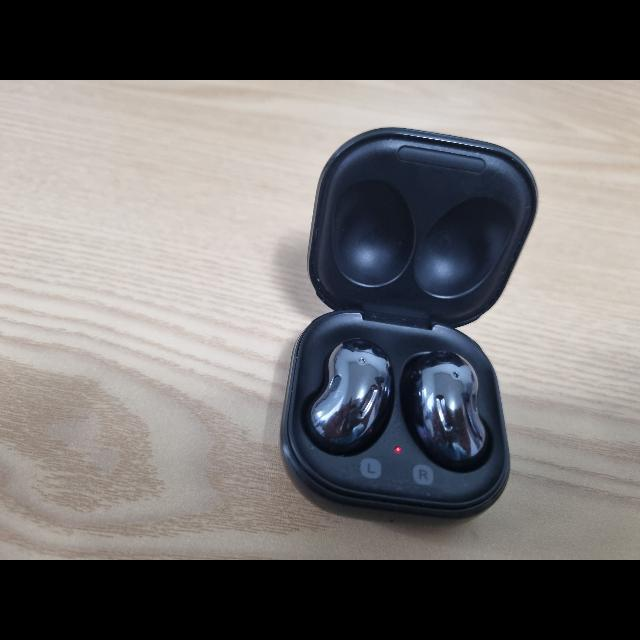buds_live: (278, 127, 540, 525)
